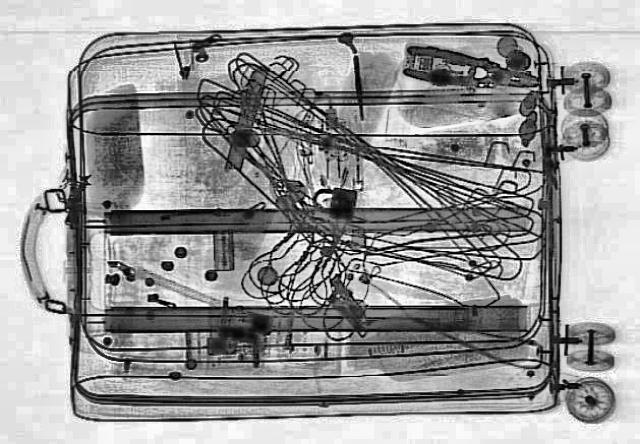Pliers: (392, 40, 546, 100)
